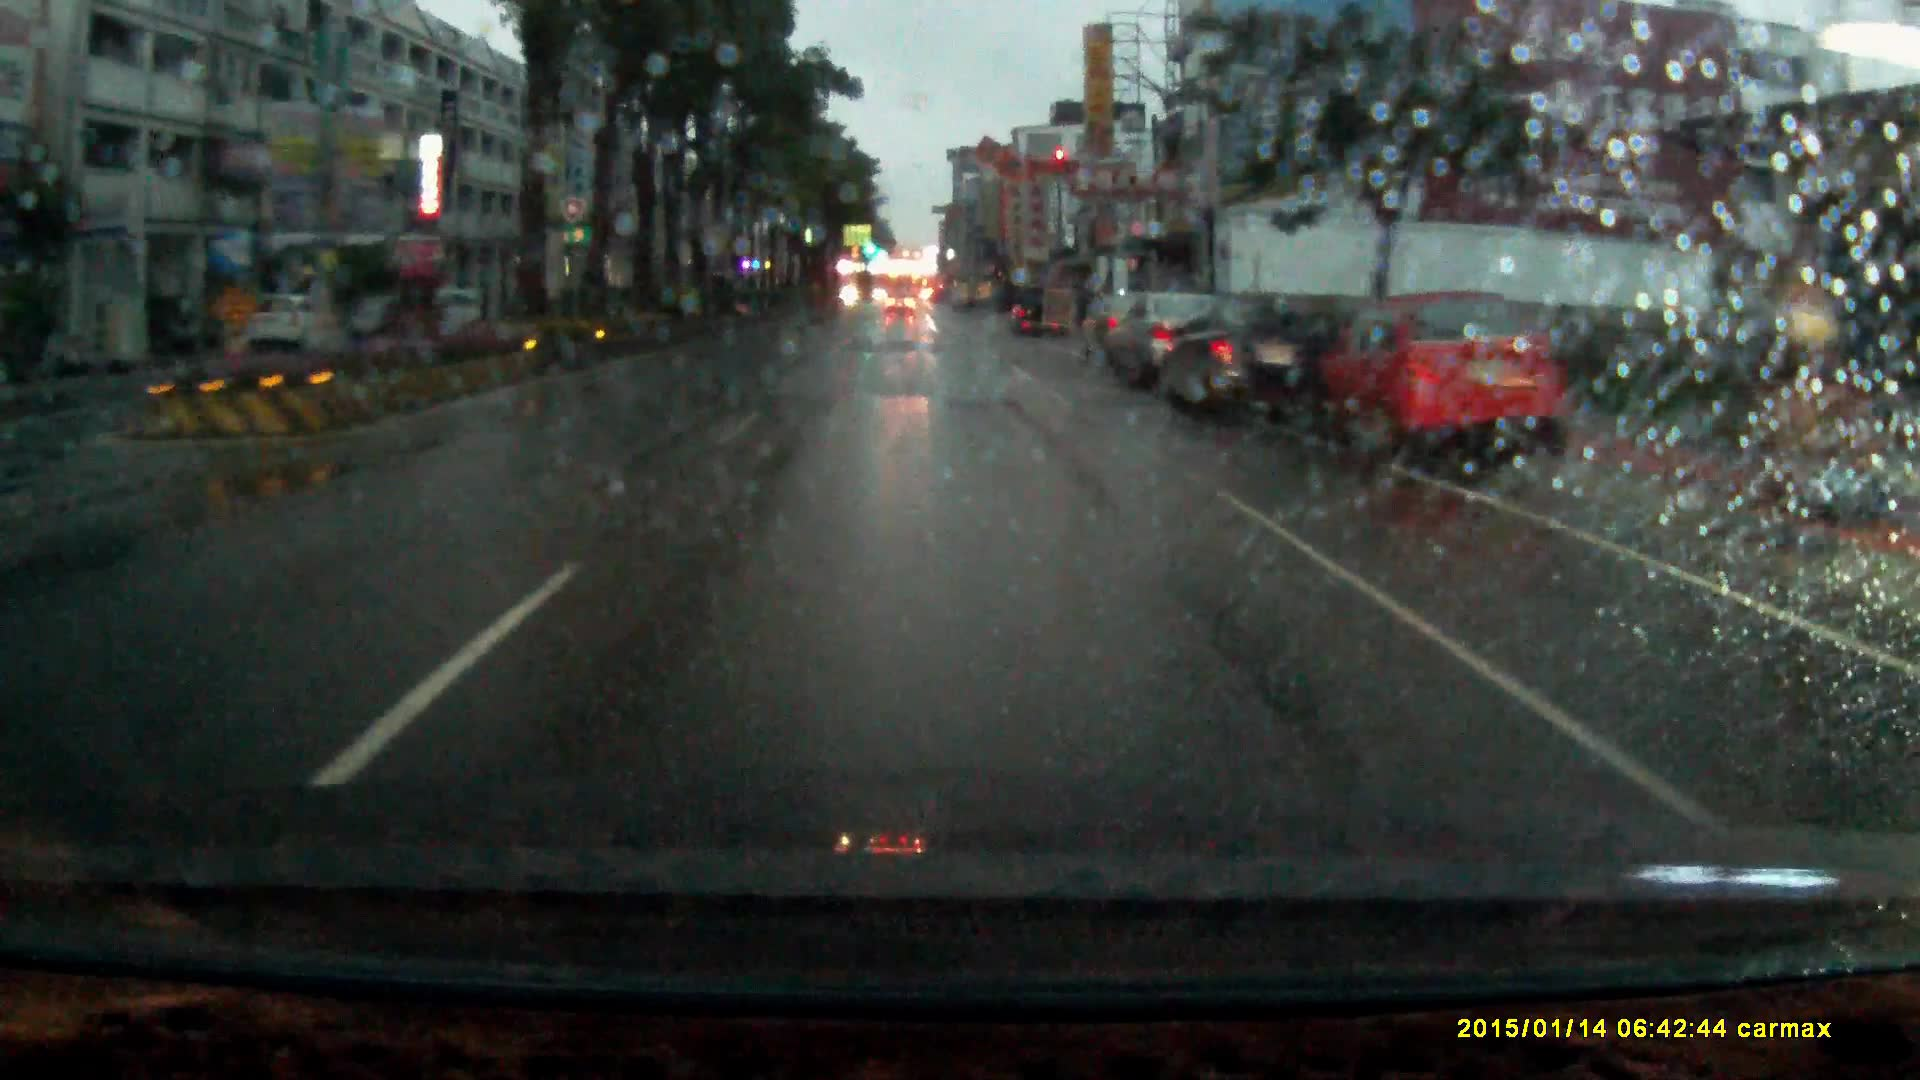vehicle: (1328, 299, 1594, 480), (1155, 301, 1346, 433), (1112, 297, 1224, 389), (384, 290, 487, 342), (249, 297, 331, 357), (1079, 298, 1139, 365), (1004, 289, 1067, 345), (885, 291, 916, 322)
